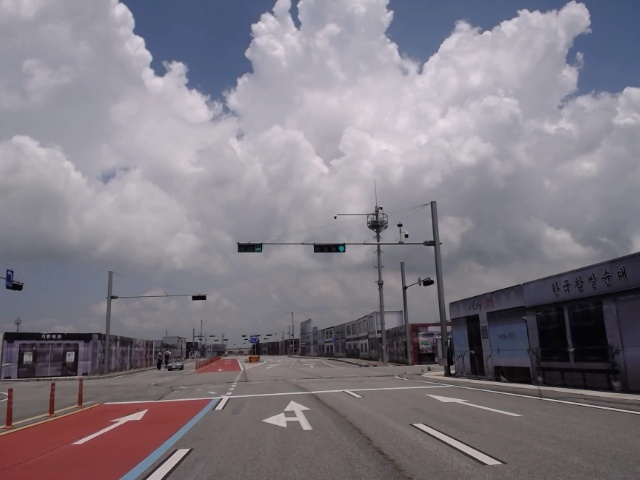straight_green_4: (315, 244, 346, 252)
